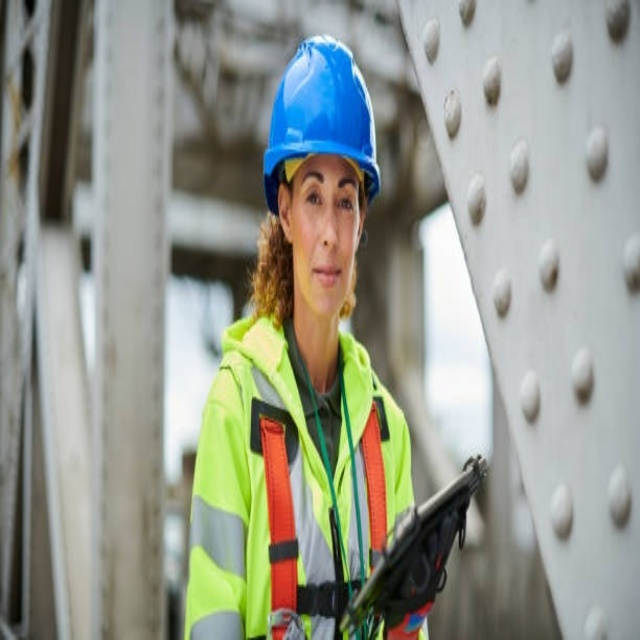Sin_gafas: (295, 169, 358, 226)
Sin_mascara: (305, 256, 346, 307)
